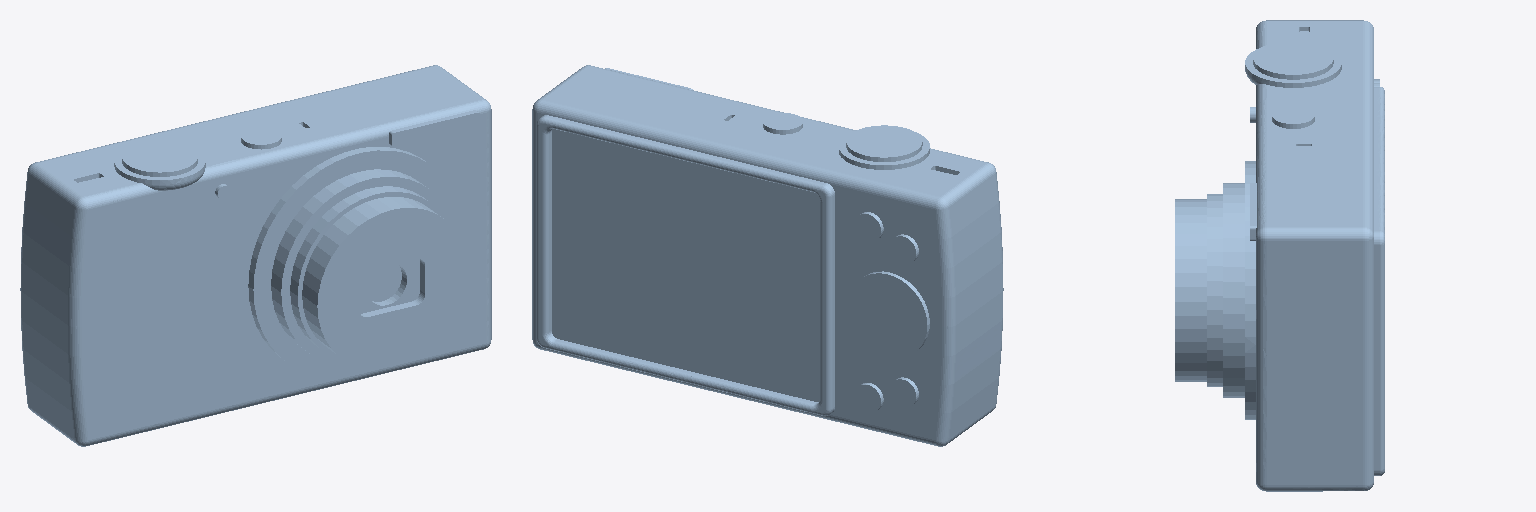
URDF robot description (camera.urdf):
<?xml version="1.0" ?>
<robot name="camera.urdf">
  <dynamics damping="0.5" friction="0.9"/>
  <link name="baseLink">
    <contact>
      <lateral_friction value="0.9"/>
      <rolling_friction value="0.5"/>
      <stiffness value="30000"/>
      <damping value="1000"/>
    </contact>
    <visual>
      <origin rpy="0 0 0" xyz="0 0 0"/>
      <geometry>
        <mesh filename="camera/camera.obj" scale="1.0 1.0 1.0"/>
      </geometry>
       <material name="mat">
        <color rgba="0.7 0.8 0.9 1"/>
      </material>
    </visual>
    <collision>
      <origin rpy="0 0 0" xyz="0 0 0"/>
      <geometry>
	 	<mesh filename="camera/camera.obj" scale="1.0 1.0 1.0"/>
      </geometry>
    </collision>
  </link>
</robot>

--- What the picture shows (computed from the rendered views, not written in the file) ---
3 views of the same robot in one strip: view 1: azimuth 30°, elevation 25°; view 2: azimuth 150°, elevation 25°; view 3: azimuth 270°, elevation 25° (orthographic).
Robot: camera.urdf — 1 links, 0 joints (none); root link baseLink; default pose: all joints at 0.
Links seen in each view (by area): view 1: baseLink; view 2: baseLink; view 3: baseLink.
Link boxes in pixels (<box>): baseLink: <box>20,65,491,446</box>; baseLink: <box>532,65,1003,446</box>; baseLink: <box>1175,20,1384,491</box>.
Bounding box of the posed robot: 0.1155 × 0.047 × 0.0675 m (x, y, z).
Meshes: 1 distinct files referenced, 1 mesh visuals loaded (1 OBJ).
